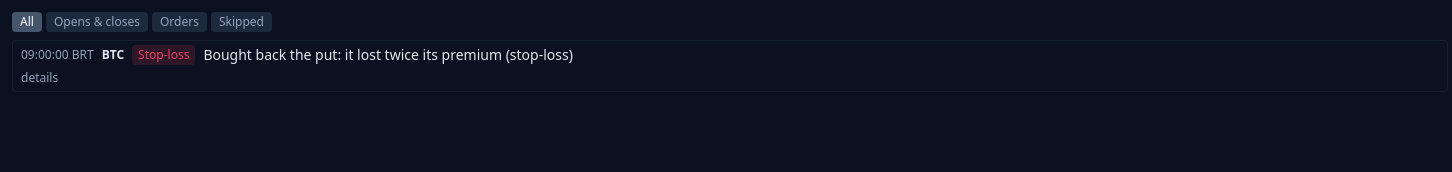
Test case: Activity feed › Scenario: an event with a plain sentence — first line is the sentence, details folded for a user
Expected: the text "Bought back the put: it lost twice its premium (stop-loss)" is shown, [203,45,573,65]
Expected: the text "btc" is shown, [102,47,124,63]
Click the button "details": (40, 78) [21,70,58,86]
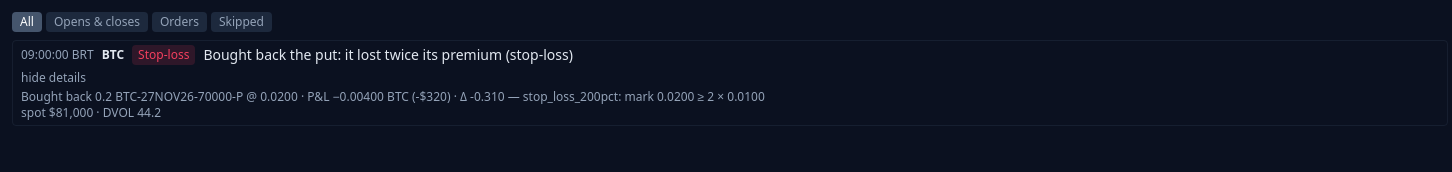
Expected: the button "hide details" is expanded, [21,70,86,86]
Expected: the button "hide details" is shown, [21,70,86,86]
Expected: the text "stop_loss_200pct: mark 0.0200" is shown, [21,88,765,105]
